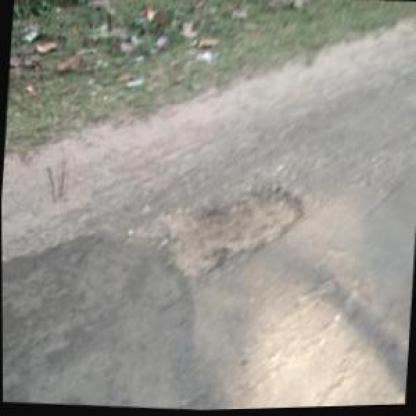pothole: (160, 178, 310, 286)
